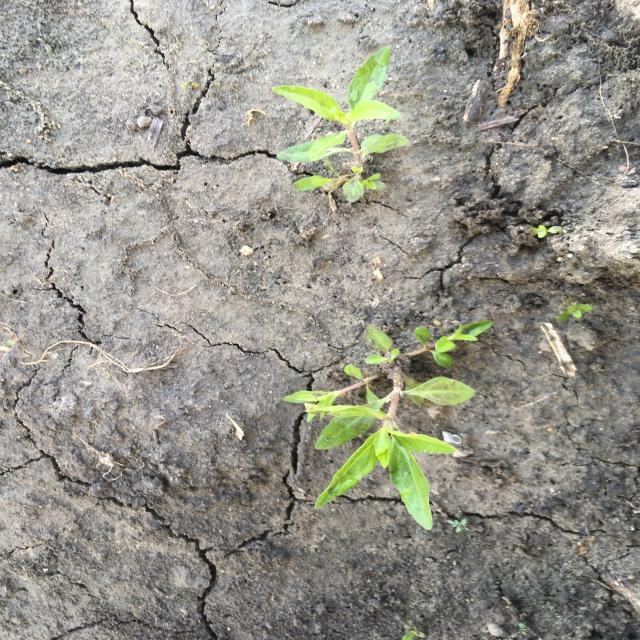Eclipta: (281, 318, 494, 532), (269, 44, 412, 204)
